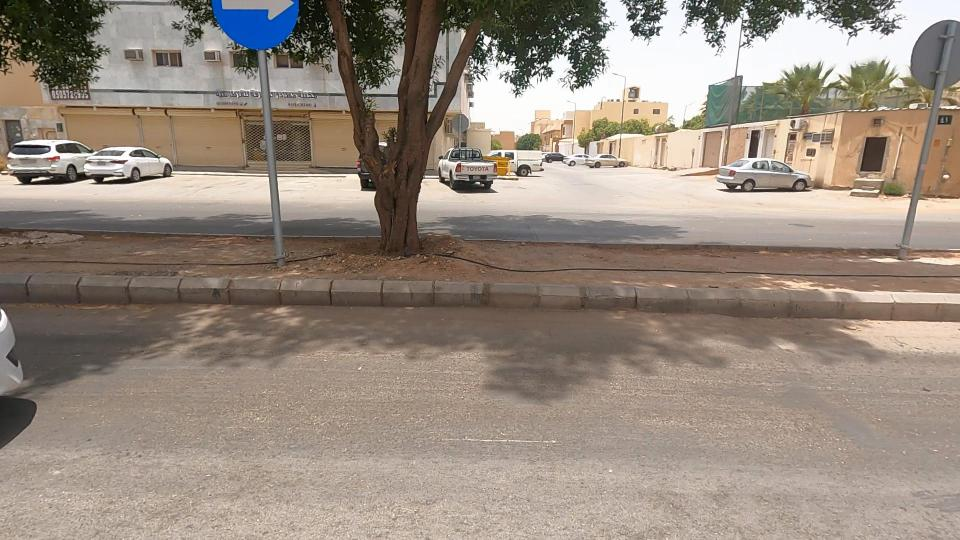CLUTTER_SIDEWALK: (343, 204, 833, 330), (0, 171, 342, 339)
